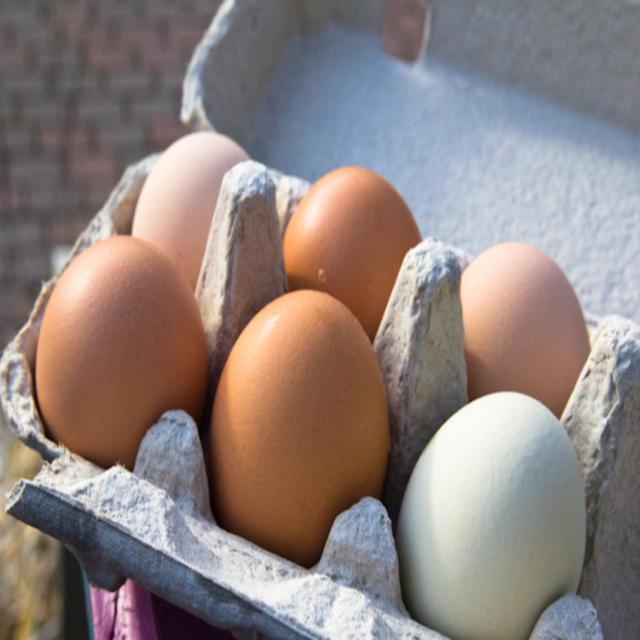Egg: (33, 134, 592, 638), (206, 290, 394, 558), (399, 385, 590, 640), (34, 233, 207, 484)
